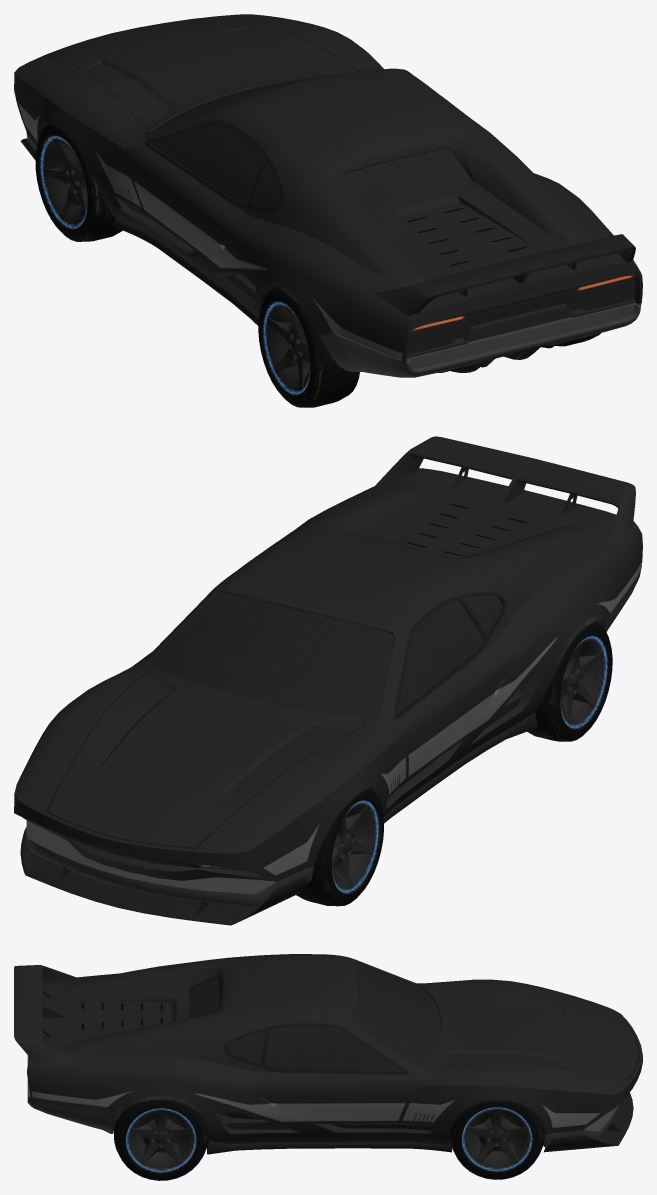
The model's file is cyberpunk_car.glb.
3 views of the same model, one above another, from view 1: azimuth 30°, elevation 25°; view 2: azimuth 150°, elevation 25°; view 3: azimuth 270°, elevation 25° (orthographic). The views are drawn at different scales.
Visible parts, largest first — view 1: cb_car_export; view 2: cb_car_export; view 3: cb_car_export.
Boxes of the visible parts, box(x1,y1,x2,y2) form: cb_car_export: box(14, 14, 642, 407); cb_car_export: box(14, 436, 642, 925); cb_car_export: box(14, 954, 642, 1180).
Bounding box in the file's own units: 223 × 141 × 541.
1 material, 1 textured.
